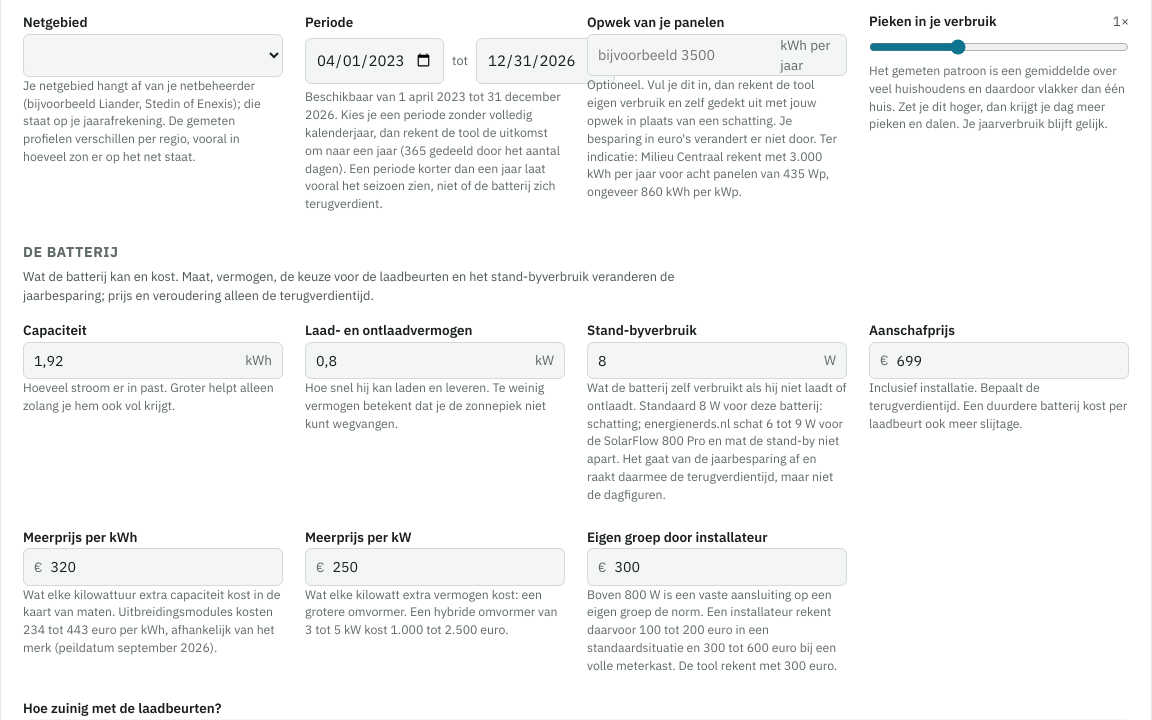
Test case: de getalvelden › zetten een leeggemaakte batterijwaarde terug op die van de batterij
(page scrolled)
Replace the text in the field with id "inst-capaciteit" with "5" at x=136, y=360, box [34, 343, 237, 378]
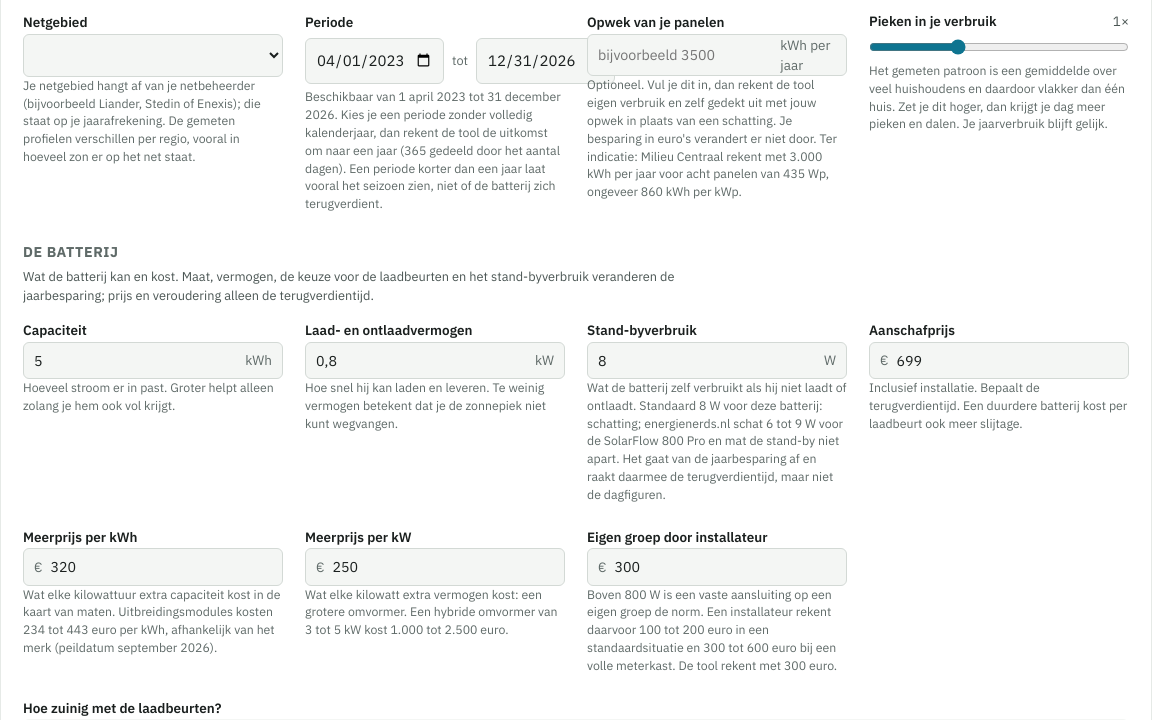
Clear the field with id "inst-capaciteit" at x=136, y=360, box [34, 343, 237, 378]
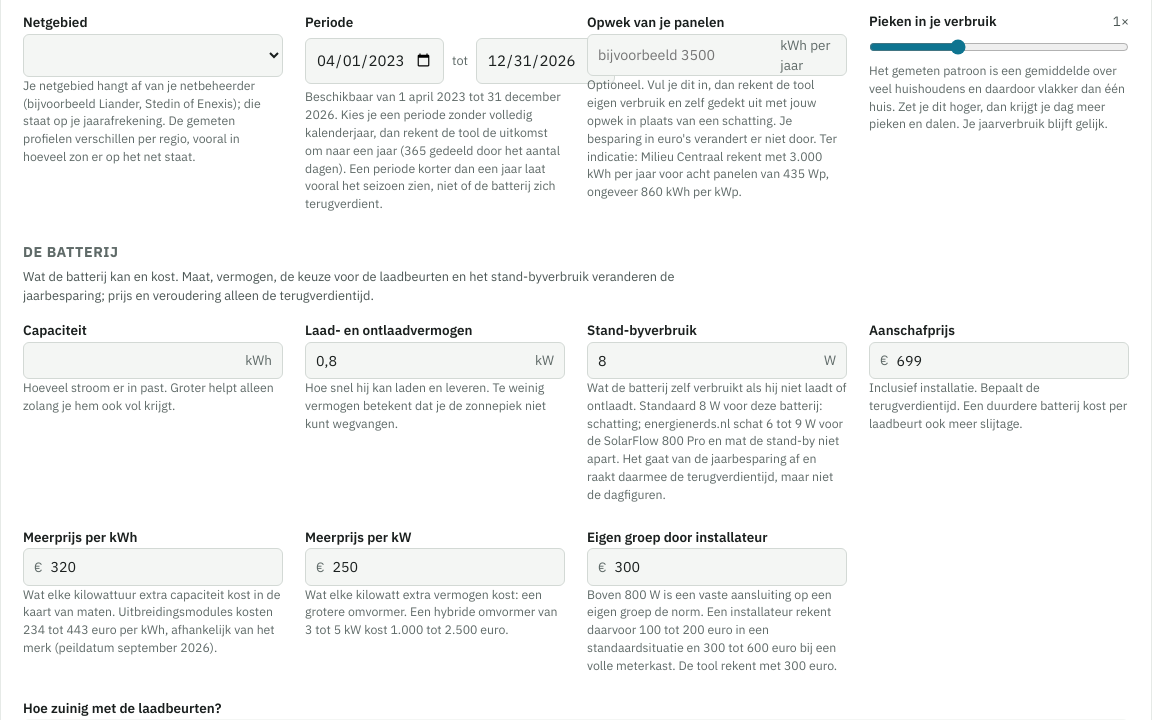
Leave the field with id "inst-capaciteit", box [34, 343, 237, 378]
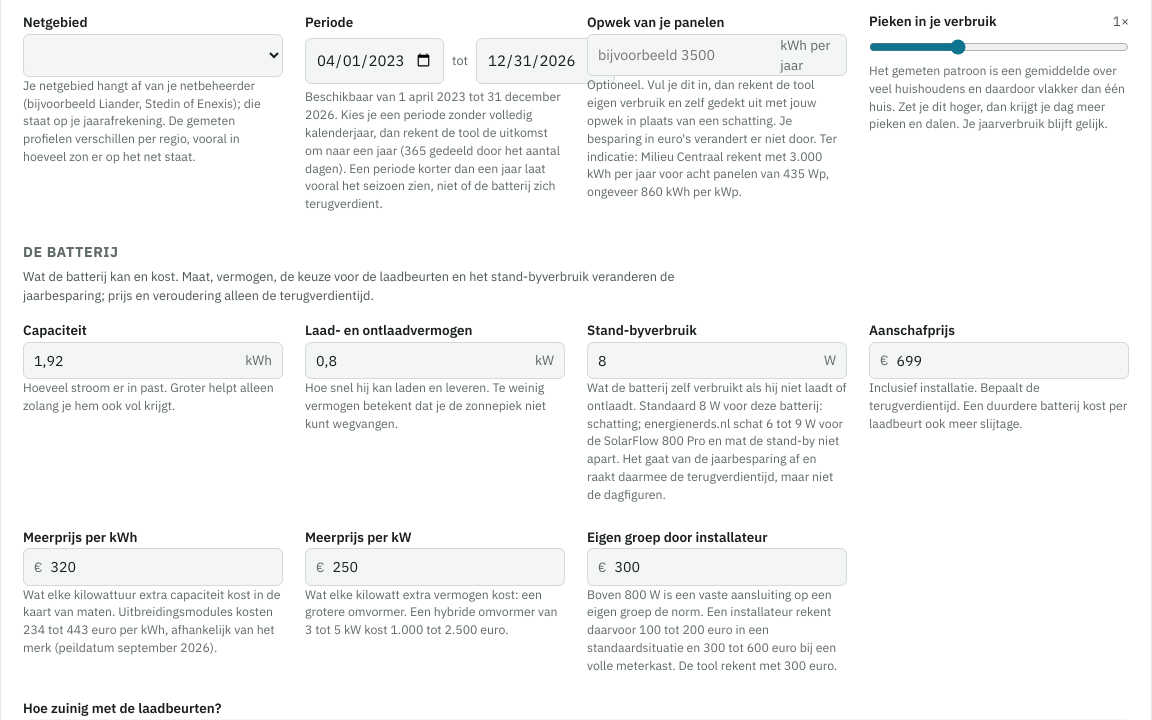
Expected: the field with id "inst-capaciteit" holds "1,92", [34, 343, 237, 378]
